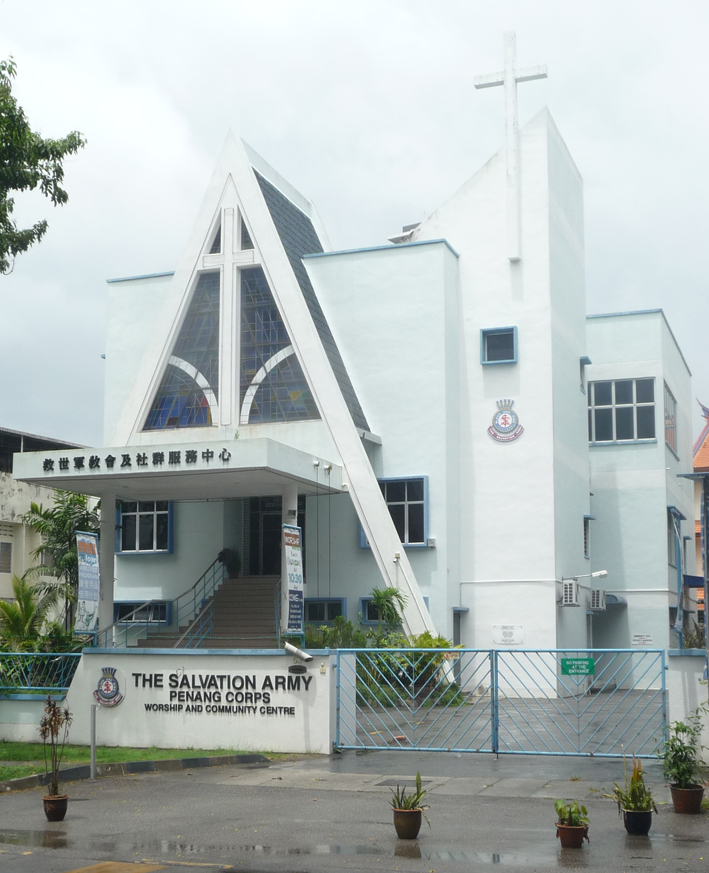Church: (41, 31, 695, 711)
